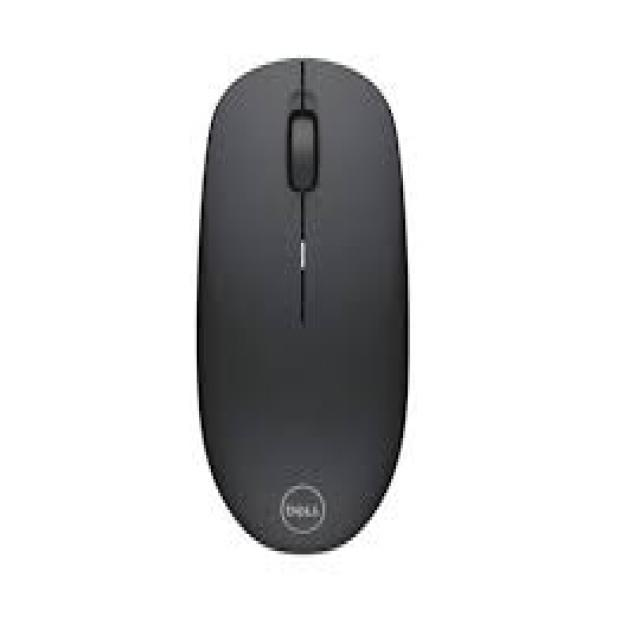others: (116, 34, 441, 575)
